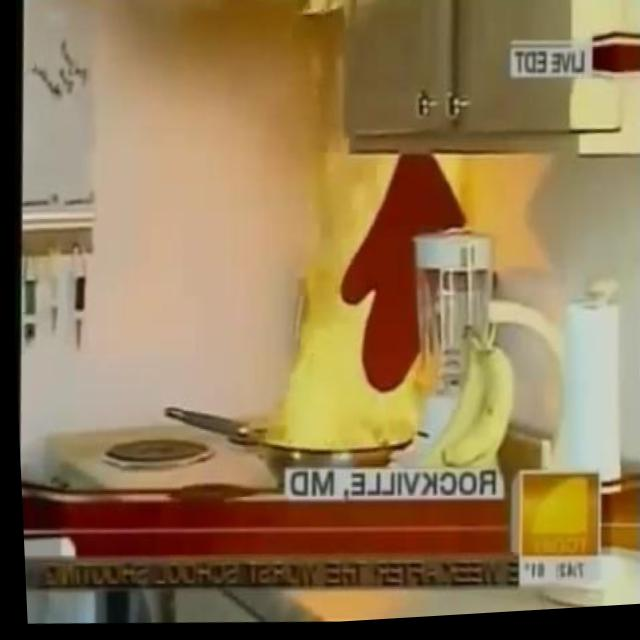fire: (228, 144, 463, 463)
